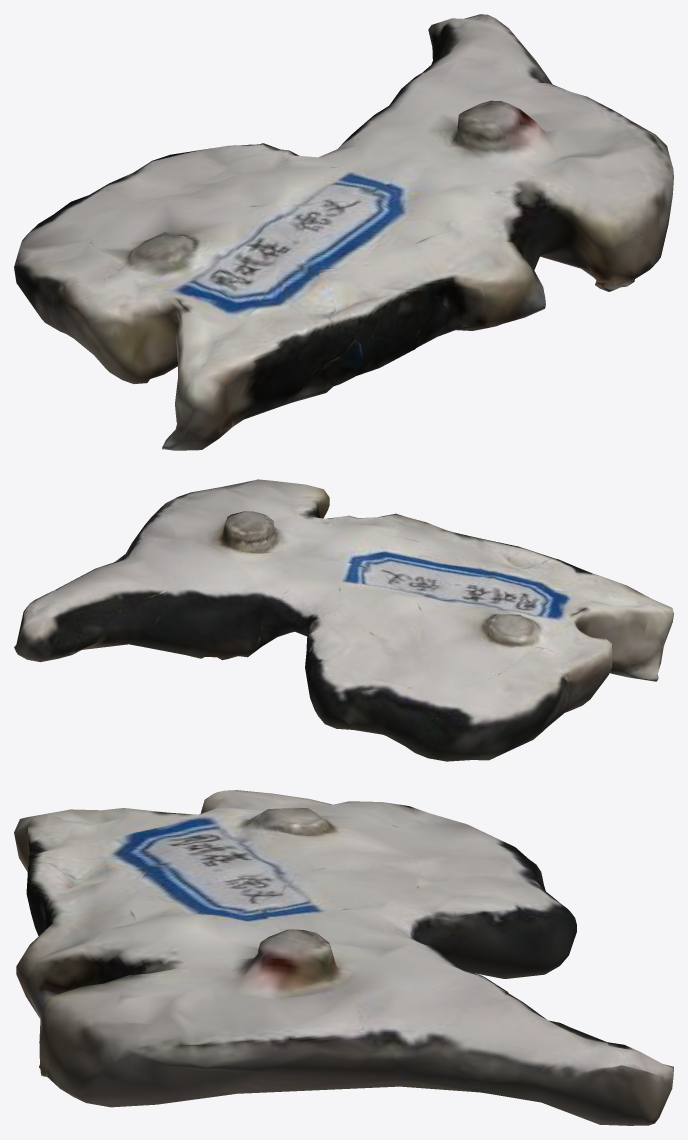
The model's file is hall.glb.
3 views of the same model, one above another, from view 1: azimuth 30°, elevation 25°; view 2: azimuth 150°, elevation 25°; view 3: azimuth 270°, elevation 25° (orthographic). The views are drawn at different scales.
Size of the model in its own units: 0.5935 by 0.1689 by 0.506.
Materials: 1 (1 with a texture image).
